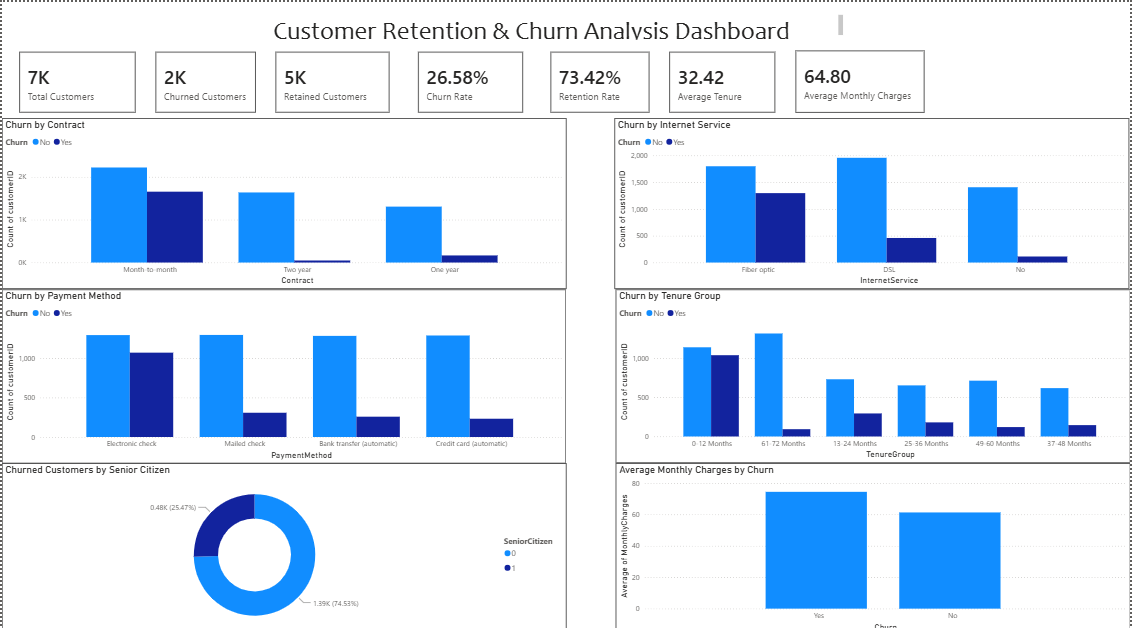

What the dashboard file says about the page in this screenshot:
{"tool":"powerbi","page":{"name":"Page 1","canvas":[1920,1080],"ordinal":0},"visuals":[{"type":"cardVisual","fields":{"Data":["cleaned_telco_customer_churn.Total Customers"]},"box":[12.5,68.8,231.2,137.5],"z":0},{"type":"cardVisual","fields":{"Data":["cleaned_telco_customer_churn.Churned Customers"]},"box":[243.8,68.8,204.2,137.5],"z":1000},{"type":"cardVisual","fields":{"Data":["cleaned_telco_customer_churn.Retained Customers"]},"box":[447.9,68.8,227.1,137.5],"z":2000},{"type":"cardVisual","fields":{"Data":["cleaned_telco_customer_churn.Churn Rate"]},"box":[691.7,68.8,212.5,137.5],"z":3000},{"type":"cardVisual","fields":{"Data":["cleaned_telco_customer_churn.Retention Rate"]},"box":[916.7,68.8,202.1,137.5],"z":4000},{"type":"cardVisual","fields":{"Data":["cleaned_telco_customer_churn.Average Tenure"]},"box":[1118.8,68.8,214.6,137.5],"z":5000},{"type":"cardVisual","fields":{"Data":["cleaned_telco_customer_churn.Average Monthly Charges"]},"box":[1334.1,65.9,253.7,139],"z":6000},{"type":"clusteredColumnChart","title":"Churn by Contract","fields":{"Category":["cleaned_telco_customer_churn.Contract"],"Y":["CountNonNull(cleaned_telco_customer_churn.customerID)"],"Series":["cleaned_telco_customer_churn.Churn"]},"box":[0,198.6,960.8,290.5],"z":7000},{"type":"clusteredColumnChart","title":"Churn by Internet Service","fields":{"Category":["cleaned_telco_customer_churn.InternetService"],"Y":["CountNonNull(cleaned_telco_customer_churn.customerID)"],"Series":["cleaned_telco_customer_churn.Churn"]},"box":[1043.2,198.6,875.7,290.5],"z":8000},{"type":"clusteredColumnChart","title":"Churn by Payment Method","fields":{"Category":["cleaned_telco_customer_churn.PaymentMethod"],"Y":["CountNonNull(cleaned_telco_customer_churn.customerID)"],"Series":["cleaned_telco_customer_churn.Churn"]},"box":[0,490,960,296],"z":9000},{"type":"textbox","box":[372.9,16.7,1064.6,52.1],"z":10000},{"type":"clusteredColumnChart","title":"Churn by Tenure Group","fields":{"Category":["cleaned_telco_customer_churn.TenureGroup"],"Y":["CountNonNull(cleaned_telco_customer_churn.customerID)"],"Series":["cleaned_telco_customer_churn.Churn"]},"box":[1043.9,490.2,875.6,295.1],"z":11000},{"type":"donutChart","title":"Churned Customers by Senior Citizen","fields":{"Category":["cleaned_telco_customer_churn.SeniorCitizen"],"Y":["CountNonNull(cleaned_telco_customer_churn.customerID)"]},"box":[0,785.1,959.6,293.6],"z":12000},{"type":"clusteredColumnChart","title":"Average Monthly Charges by Churn","fields":{"Category":["cleaned_telco_customer_churn.Churn"],"Y":["Avg(cleaned_telco_customer_churn.MonthlyCharges)"]},"box":[1043.9,785.4,875.6,292.7],"z":13000}]}

Visuals, with their boxes in screenshot pixels (x1, y1, x2, y2), scaled from the page's 1920x1080 canvas onto the 1138x628 screenshot:
cardVisual - cleaned_telco_customer_churn.Total Customers: 7:40:144:120
cardVisual - cleaned_telco_customer_churn.Churned Customers: 145:40:266:120
cardVisual - cleaned_telco_customer_churn.Retained Customers: 265:40:400:120
cardVisual - cleaned_telco_customer_churn.Churn Rate: 410:40:536:120
cardVisual - cleaned_telco_customer_churn.Retention Rate: 543:40:663:120
cardVisual - cleaned_telco_customer_churn.Average Tenure: 663:40:790:120
cardVisual - cleaned_telco_customer_churn.Average Monthly Charges: 791:38:941:119
"Churn by Contract" clusteredColumnChart: 0:115:569:284
"Churn by Internet Service" clusteredColumnChart: 618:115:1137:284
"Churn by Payment Method" clusteredColumnChart: 0:285:569:457
textbox: 221:10:852:40
"Churn by Tenure Group" clusteredColumnChart: 619:285:1137:457
"Churned Customers by Senior Citizen" donutChart: 0:457:569:627
"Average Monthly Charges by Churn" clusteredColumnChart: 619:457:1137:627
